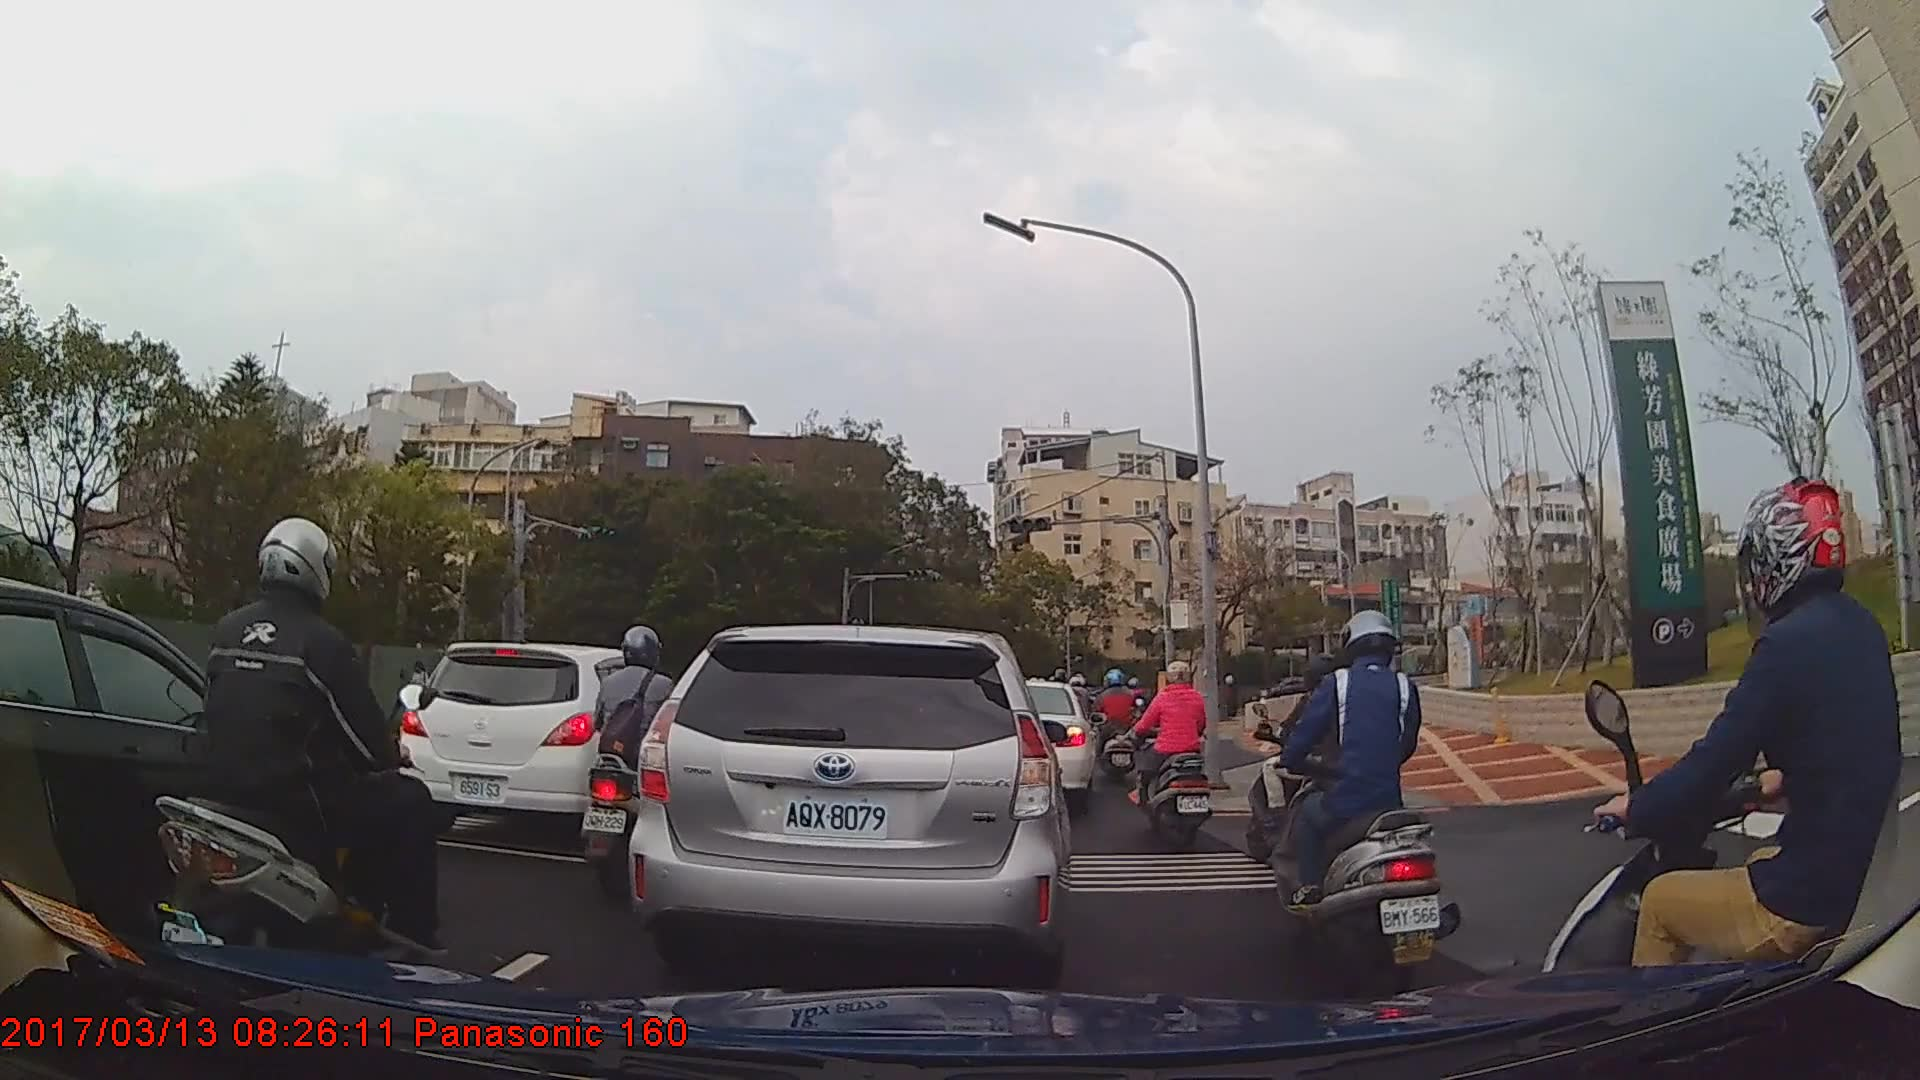pedestrian: (410, 660, 433, 727)
rider: (1540, 474, 1920, 1080), (158, 516, 447, 1022), (1260, 608, 1454, 1005), (582, 625, 694, 899), (1138, 663, 1212, 853), (1091, 667, 1142, 781)
vehicle: (624, 625, 1073, 981), (0, 574, 366, 943), (398, 633, 669, 846), (990, 679, 1096, 804)
